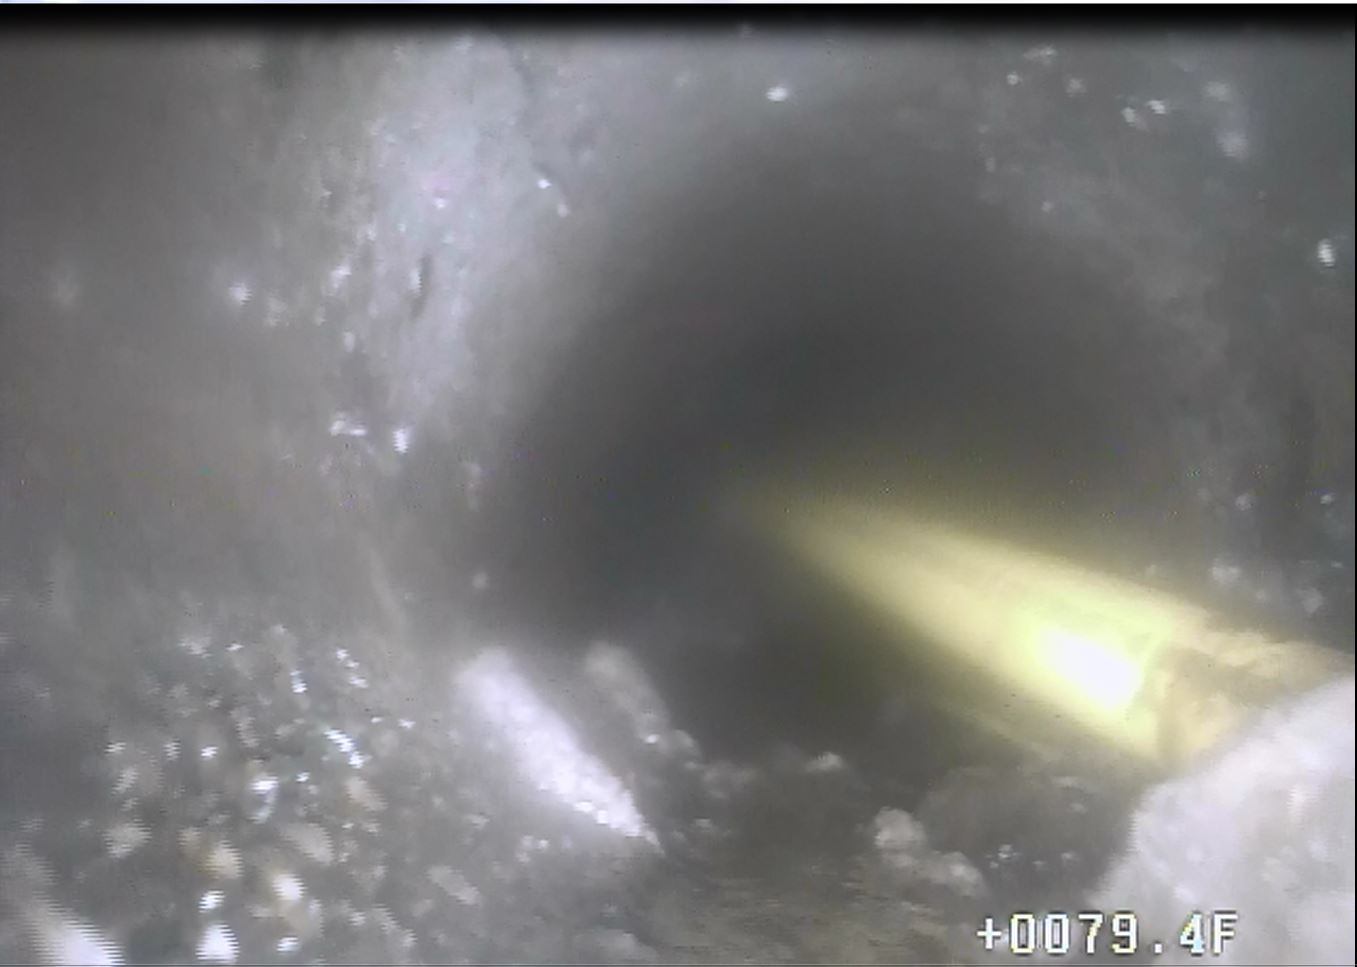cb: (659, 411, 1321, 819)
